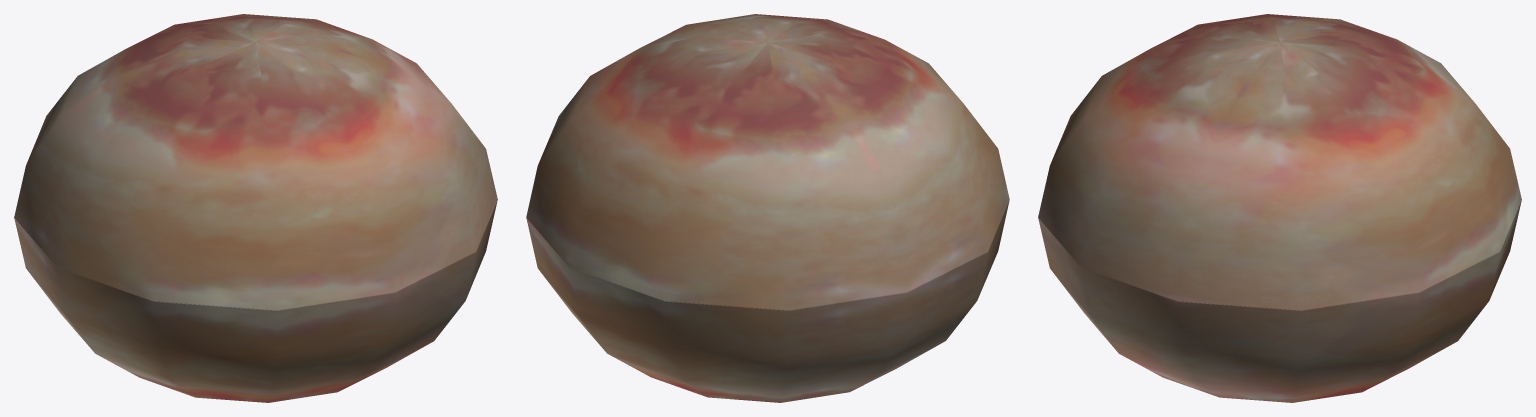
Rendered from env_bespinroom_01_pre.glb.
The picture shows the model from 3 angles, left to right: view 1: azimuth 30°, elevation 25°; view 2: azimuth 150°, elevation 25°; view 3: azimuth 270°, elevation 25°; orthographic projection.
Visible parts, largest first — view 1: skybox_01_mesh (×2); view 2: skybox_01_mesh (×2); view 3: skybox_01_mesh (×2).
Part boxes in pixels (bbox=[...]): skybox_01_mesh (×2): bbox=[14, 14, 497, 402]; skybox_01_mesh (×2): bbox=[526, 14, 1009, 402]; skybox_01_mesh (×2): bbox=[1038, 14, 1521, 402].
Size of the model in its own units: 113 by 85.26 by 113.
15 materials, 15 textured.
